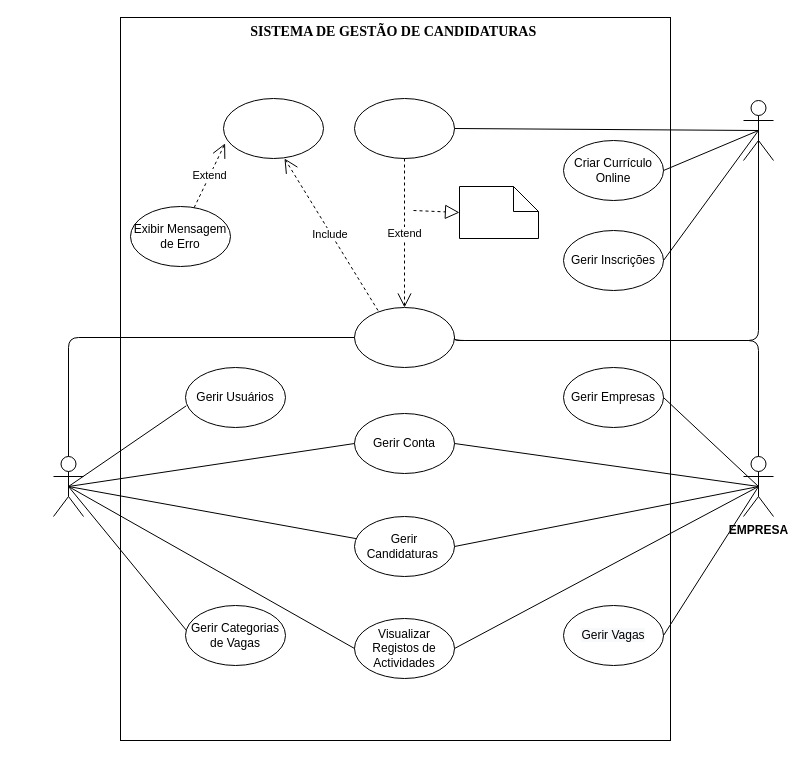
Image size: 811x758. Some labels were removed from this diagram. Each missing label, with the centre of its shape:
"ADMINISTRADOR" goes at (x=68, y=486).
"CANDIDATO" goes at (x=758, y=130).
"Caso Não Tenha Uma Conta" goes at (x=498, y=212).
"Criar Conta" goes at (x=404, y=128).
"Iniciar Sessão" goes at (x=404, y=337).
"Verificar Dados Inseridos" goes at (x=273, y=128).
